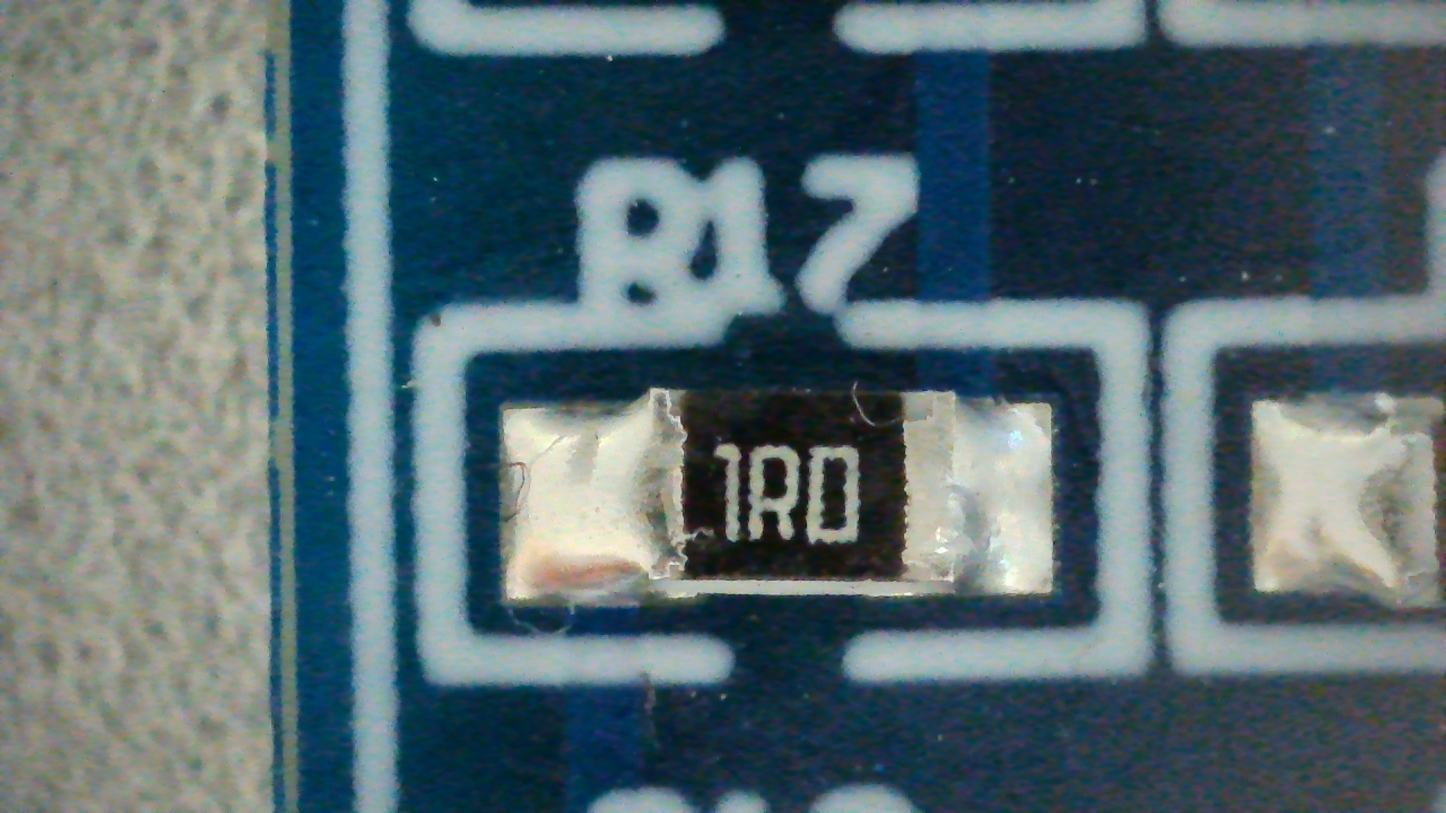OK: (499, 389, 1052, 598)
